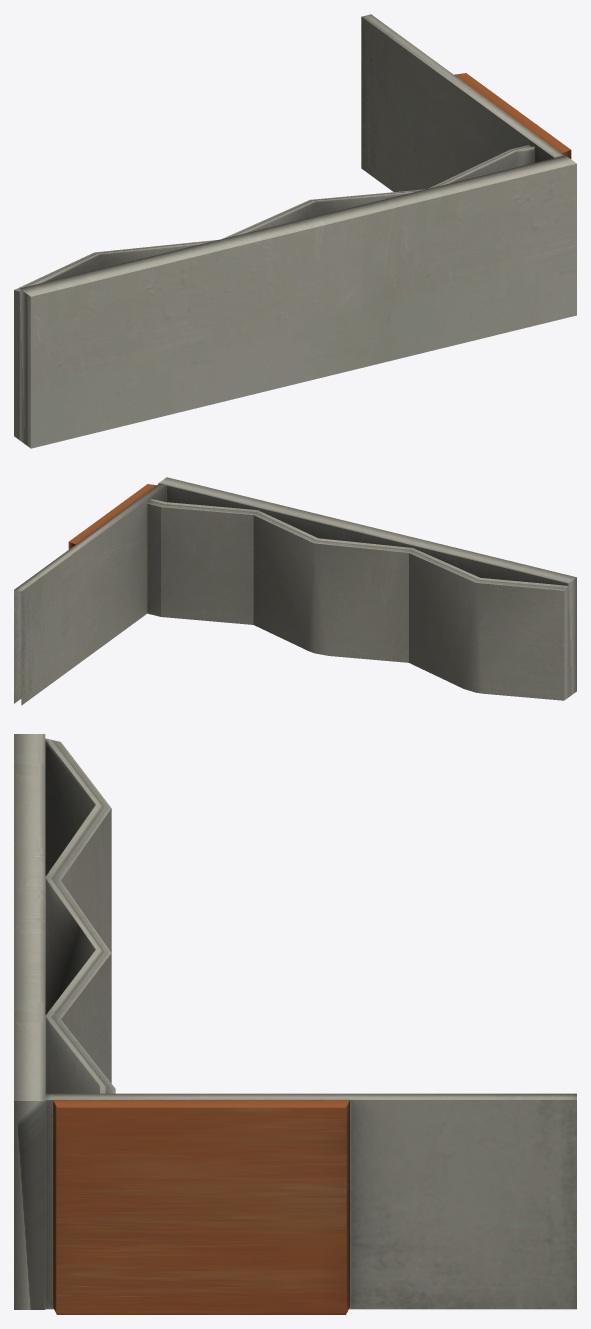
File: nt_rooftop_overhang_LOD2.obj
3 renders of one model, top to bottom at view 1: azimuth 30°, elevation 25°; view 2: azimuth 150°, elevation 25°; view 3: azimuth 270°, elevation 25°, orthographic. The views are drawn at different scales.
Visible parts, largest first — view 1: mtl_nt_rooftop_overhang; view 2: mtl_nt_rooftop_overhang; view 3: mtl_nt_rooftop_overhang.
Boxes of the visible parts, x1,y1,x2,y2 form: mtl_nt_rooftop_overhang: (14, 14, 576, 448); mtl_nt_rooftop_overhang: (14, 477, 576, 705); mtl_nt_rooftop_overhang: (14, 734, 576, 1314).
Bounding box in the file's own units: 574 × 150 × 366.
